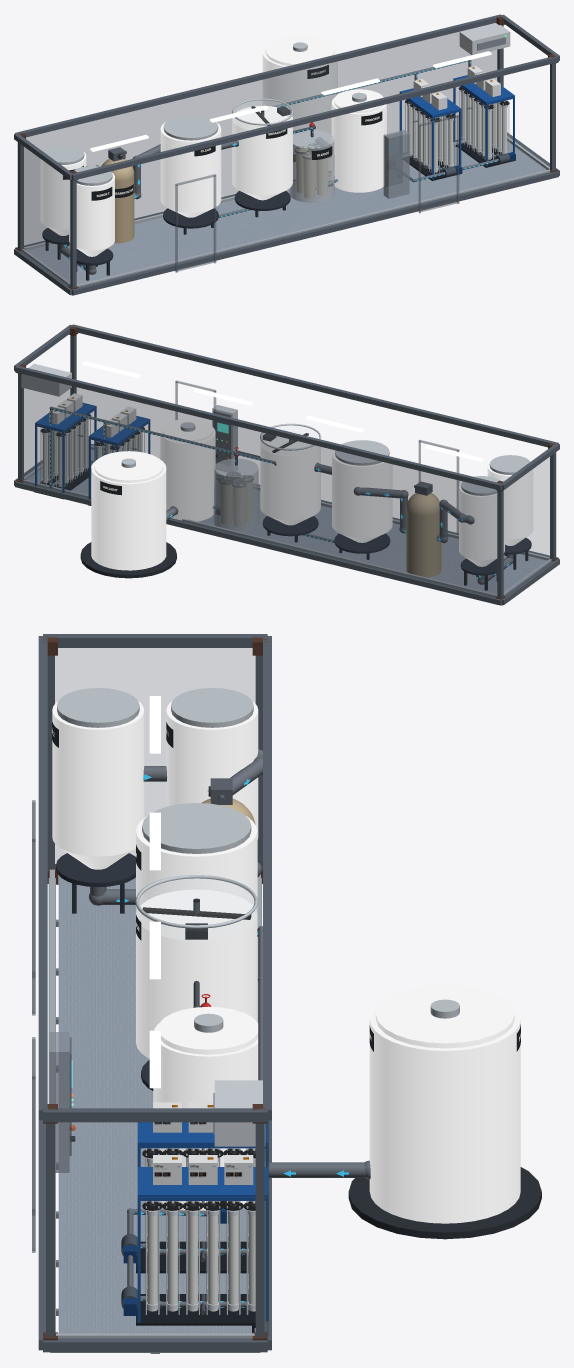
File: OilTrap EP50 System 3D Asset NEW.glb
3 views of the same model, one above another, from view 1: azimuth 30°, elevation 25°; view 2: azimuth 150°, elevation 25°; view 3: azimuth 270°, elevation 25° (orthographic). The views are drawn at different scales.
Visible parts, largest first — view 1: export-ec, object 351, object 373, object 4, object 8, object 10, object 401, object 395, object 6, object 2, object 384, object 353 (+14 smaller); view 2: export-ec, object 351, object 2, object 373, object 4, object 10, object 8, object 6, object 384, object 395, object 375, object 386 (+12 smaller); view 3: export-ec, object 2, object 351, object 4, object 395, object 6, object 353, object 397, object 386, object 10, object 375, object 12 (+16 smaller).
Boxes of the visible parts, box(x1,y1,x2,y2) form: export-ec: box(14, 14, 559, 295); object 351: box(232, 105, 292, 195); object 373: box(160, 146, 221, 212); object 4: box(262, 43, 337, 105); object 8: box(332, 142, 384, 192); object 10: box(331, 97, 386, 151); object 401: box(383, 130, 409, 198); object 395: box(69, 201, 114, 250); object 6: box(265, 35, 334, 65); object 2: box(262, 92, 337, 153); object 384: box(40, 181, 68, 229); object 353: box(233, 100, 292, 129); export-ec: box(14, 324, 559, 605); object 351: box(260, 431, 320, 520); object 2: box(91, 508, 166, 570); object 373: box(332, 472, 392, 537); object 4: box(91, 460, 166, 521); object 10: box(160, 427, 215, 480); object 8: box(166, 473, 214, 521); object 6: box(94, 451, 163, 482); object 384: box(459, 511, 504, 560); object 395: box(505, 491, 533, 539); object 375: box(332, 447, 392, 483); object 386: box(459, 483, 504, 519); export-ec: box(32, 634, 541, 1353); object 2: box(369, 1095, 520, 1223); object 351: box(136, 889, 257, 1058); object 4: box(369, 1001, 520, 1126); object 395: box(52, 757, 144, 856); object 6: box(375, 984, 514, 1048); object 353: box(136, 877, 256, 940); object 397: box(52, 701, 144, 775); object 386: box(166, 701, 258, 775); object 10: box(153, 1023, 258, 1108); object 375: box(136, 816, 257, 889); object 12: box(158, 1006, 258, 1054).
Bounding box in the file's own units: 12.29 × 2.96 × 5.54.
1044 materials, 22 textured.
